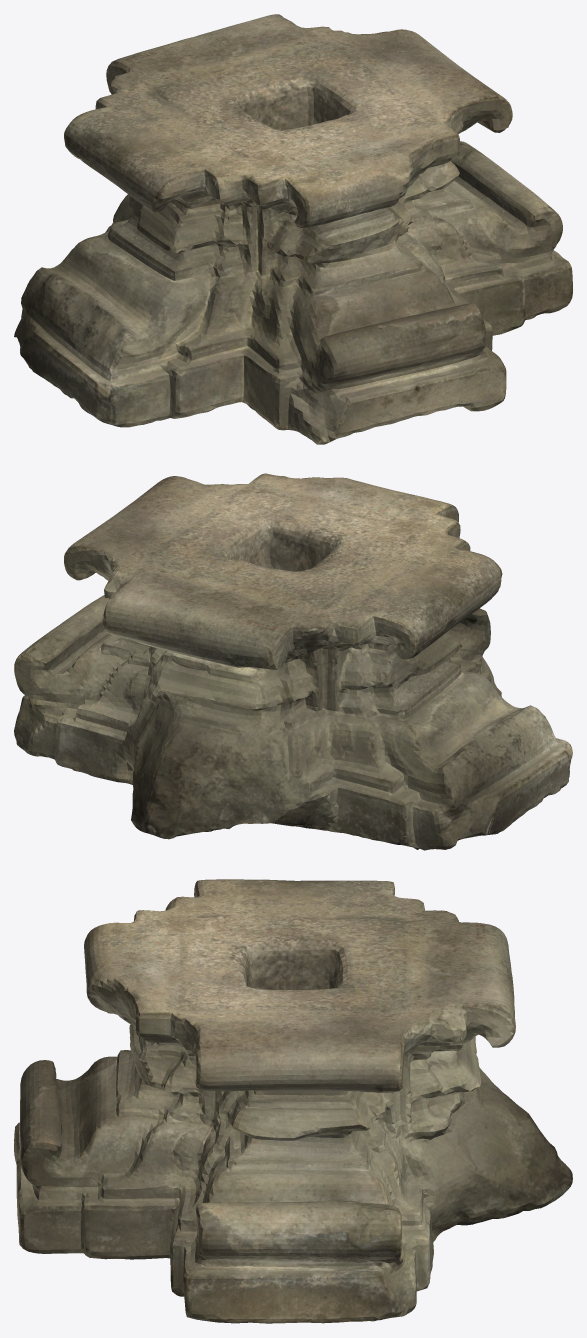
Rendered from 21_detru_final.glb.
3 views of the same model, one above another, from view 1: azimuth 30°, elevation 25°; view 2: azimuth 150°, elevation 25°; view 3: azimuth 270°, elevation 25° (orthographic). The views are drawn at different scales.
Bounding box in the file's own units: 0.2649 × 0.1248 × 0.2512.
1 material, 1 textured.
